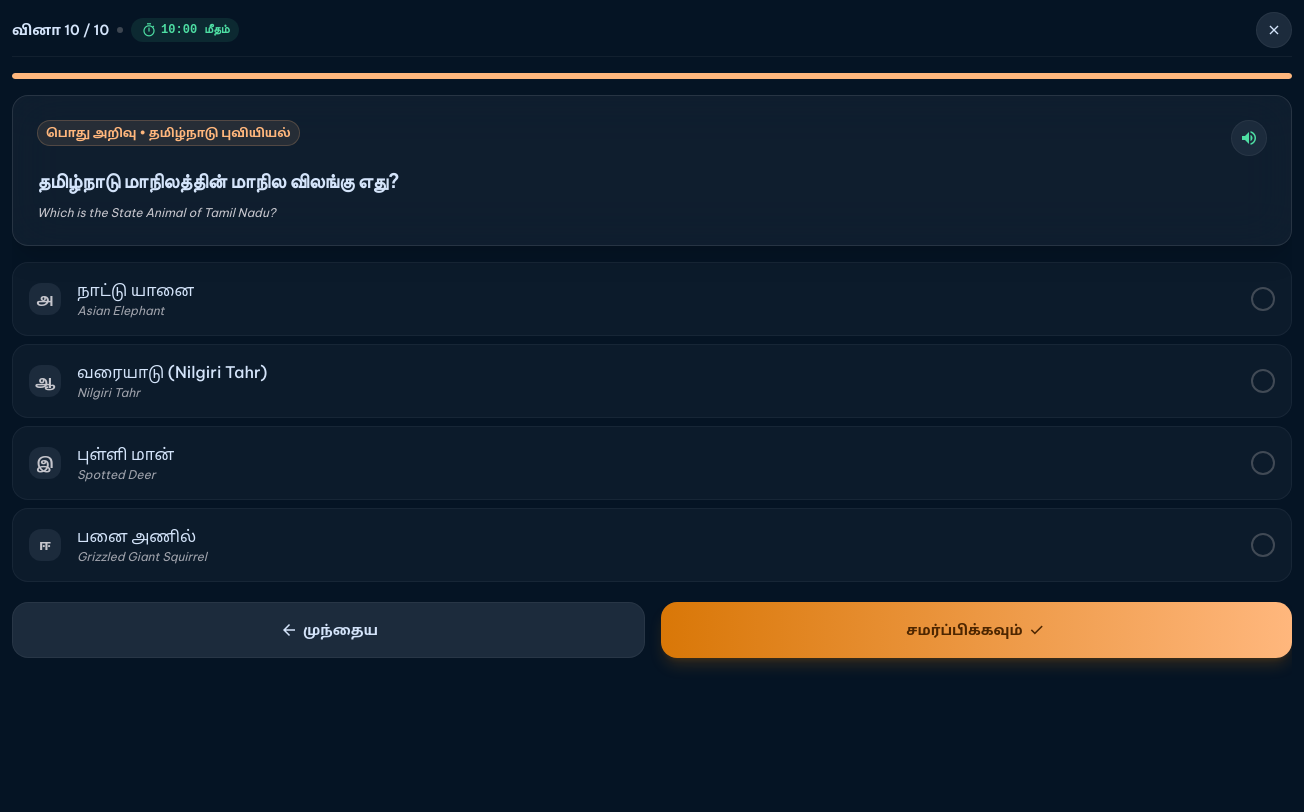
Milestone 3 Challenger: Daily Quiz & Home Empirical Stress Tests › 3. Next / Previous Navigation Bounds › replaces Next button with Finish/Submit button ("சமர்ப்பிக்கவும்") on Question 10
Expected: the text "வினா 10 / 10" is shown, [12, 20, 109, 40]
Expected: the button "அடுத்து" is not shown
Stepping back to Q9 brings back Next button
Click the button "முந்தைய" at coordinates (328, 630), box [12, 602, 645, 658]
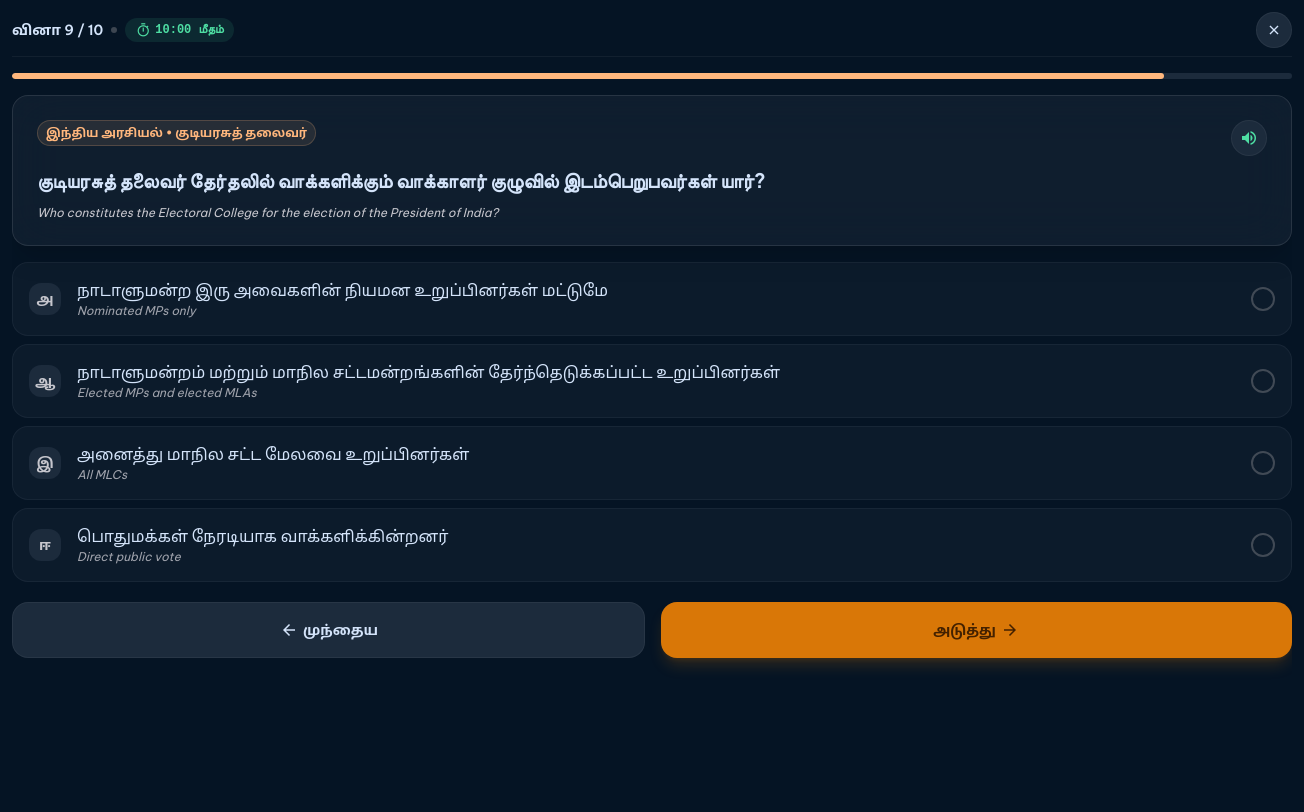
Now the text "வினா 9 / 10" is shown, box [12, 20, 103, 40]
Now the button "அடுத்து" is shown, box [661, 602, 1292, 658]
Now the button "சமர்ப்பிக்கவும்" is gone
